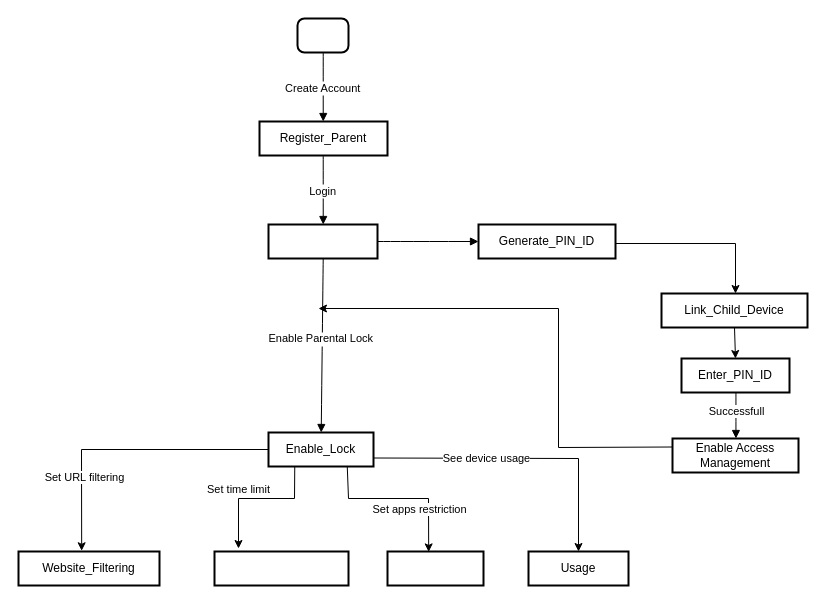
Image size: 825x603. Some labels were removed from this diagram. Here are the shapes that lost their labels. From the top down, the centre of each, then its label:
At [322,35]: "Start".
At [322,241]: "Login_Parent".
At [281,568]: "Set_Time_Limits".
At [435,568]: "Block_Apps".
